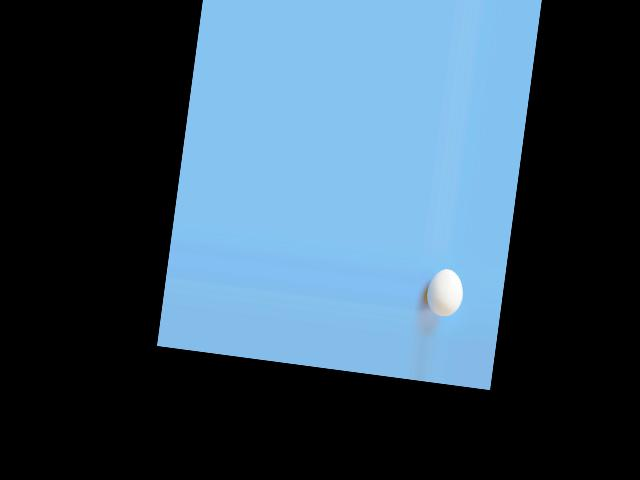egg: (423, 266, 465, 319)
